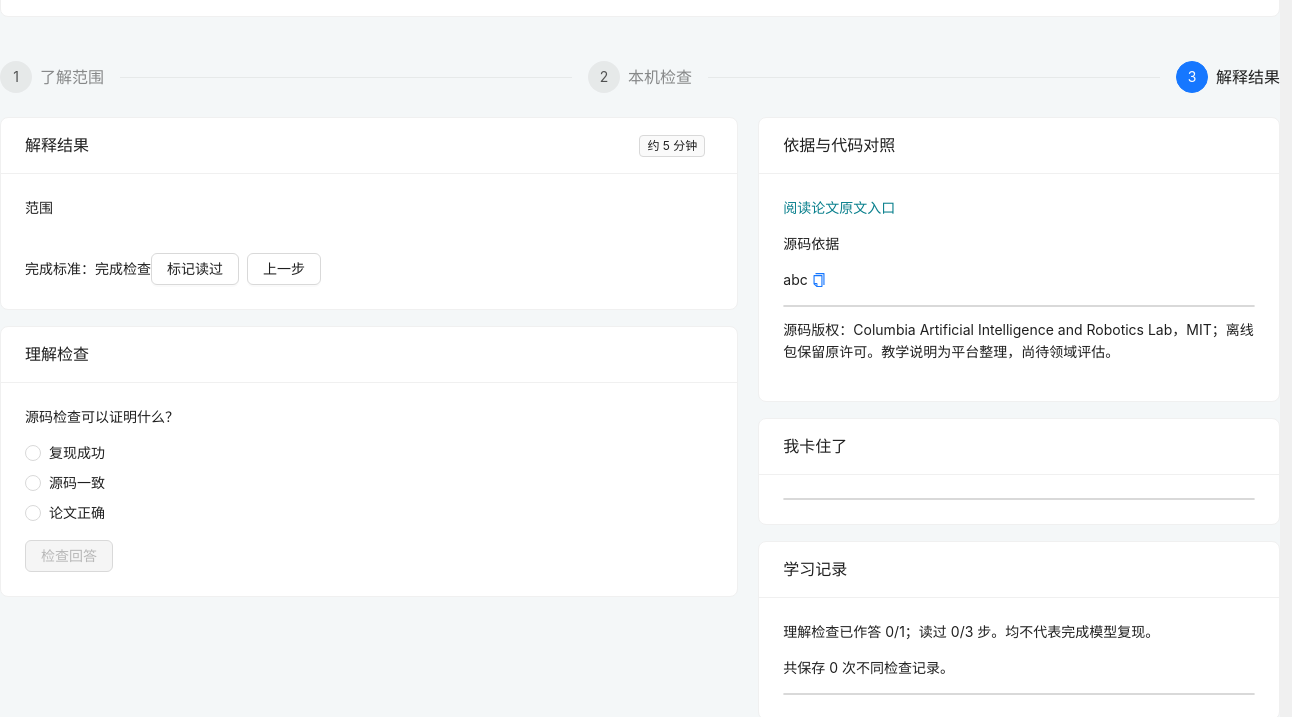
conflict keeps the selected answer and shows recovery
(page scrolled)
Expected: the text "源码检查可以证明什么？" is shown, left=25, top=408, right=179, bottom=425
Click the radio button labelled "源码一致" at (69, 483), box left=25, top=472, right=113, bottom=494
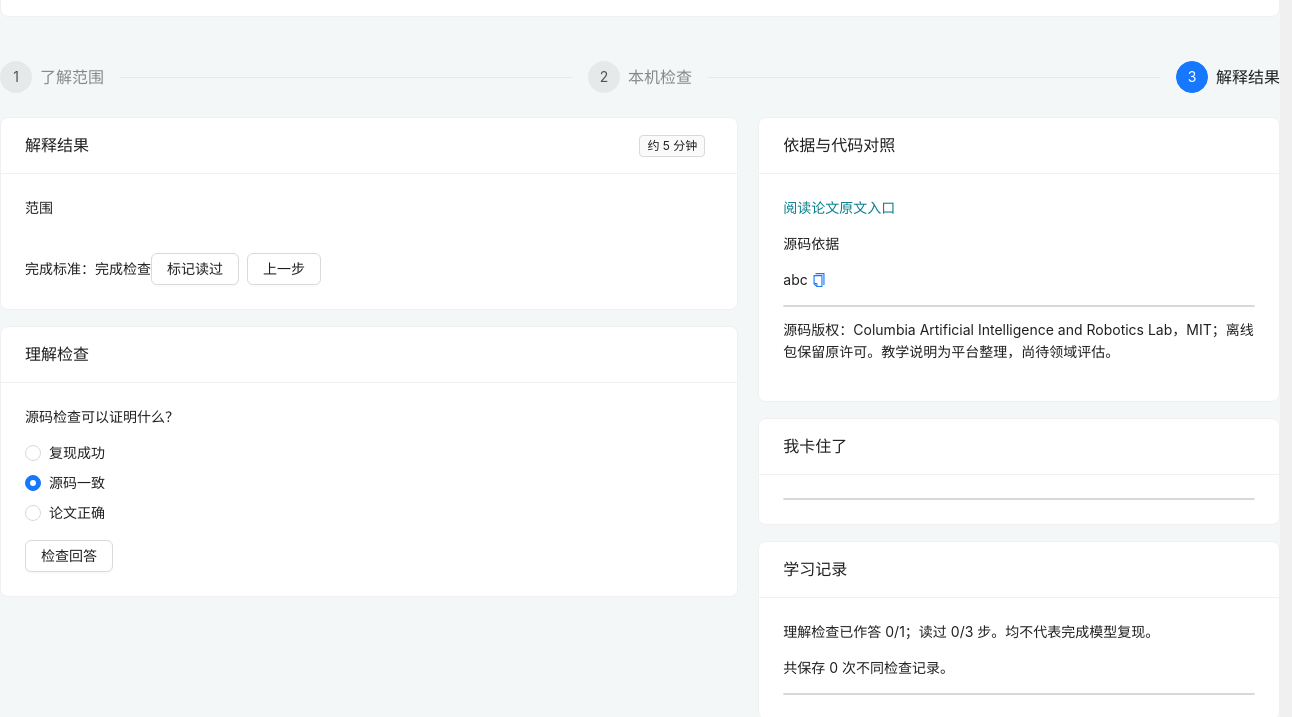
Click the button "检查回答" at (69, 556), box left=25, top=540, right=113, bottom=572
(page scrolled)
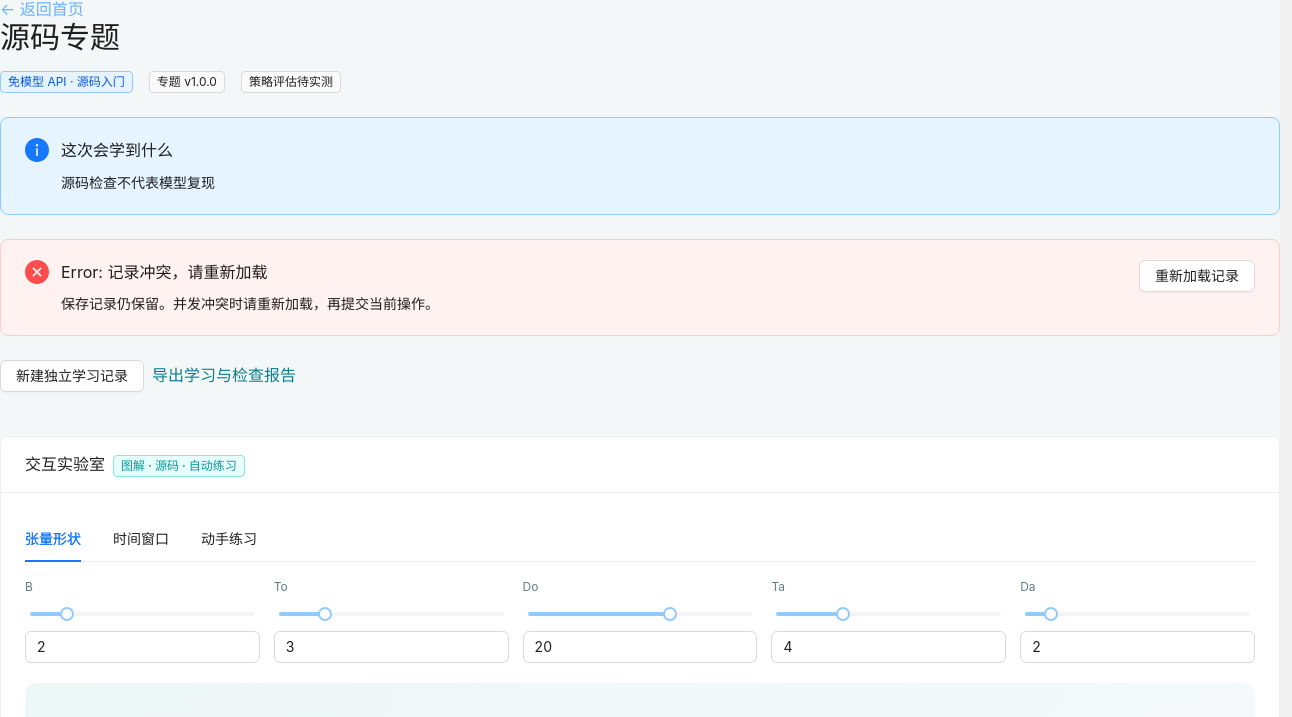
Result: the text "Error: 记录冲突，请重新加载" is shown at left=61, top=262, right=267, bottom=282
Result: the button "重新加载记录" is shown at left=1139, top=260, right=1255, bottom=292
